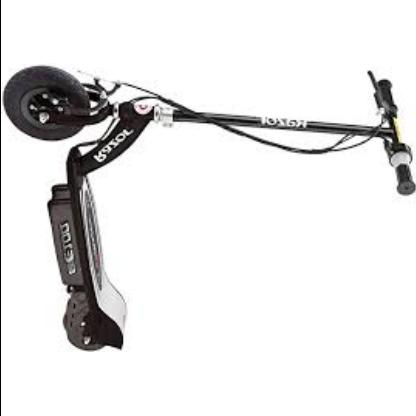bike: (3, 63, 414, 363)
